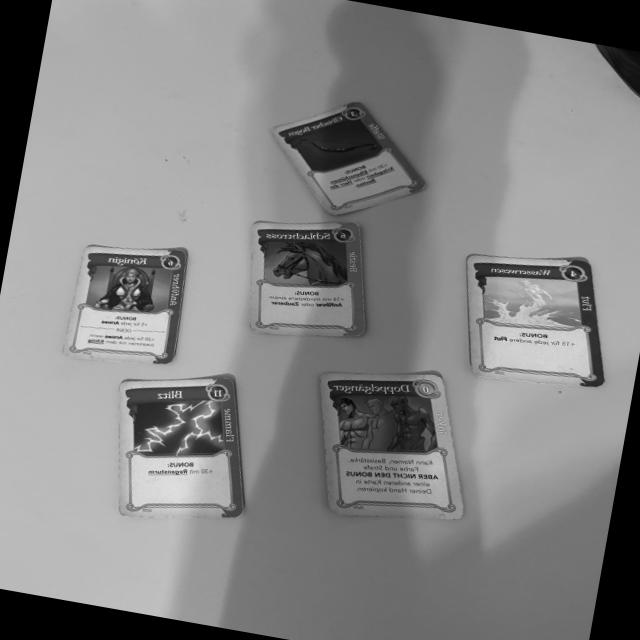Doppelganger: (316, 371, 462, 519)
Elven Longbow: (268, 100, 429, 219)
Lightning: (115, 378, 246, 519)
Queen: (62, 246, 186, 361)
War Horse: (250, 220, 370, 336)
Water Elemental: (463, 254, 607, 385)
